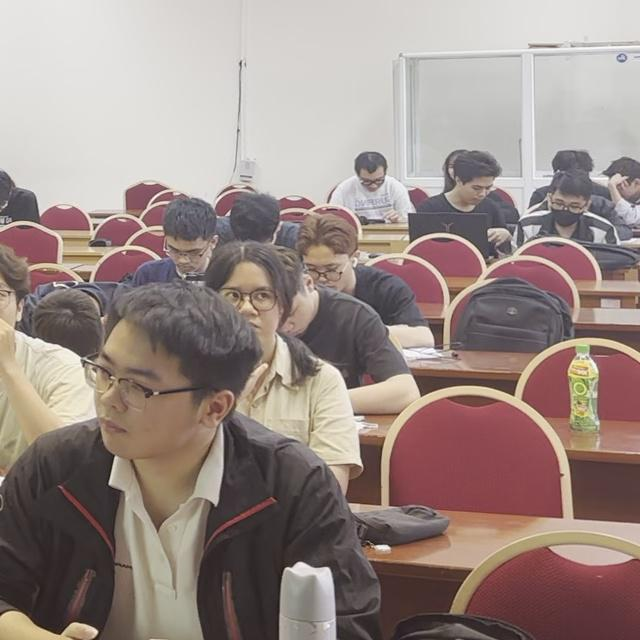Looking away: (219, 278, 277, 352), (163, 238, 213, 281), (300, 251, 348, 295), (544, 191, 591, 230), (453, 174, 498, 207), (357, 163, 387, 193), (612, 172, 639, 201)
Looking forward: (92, 341, 173, 459)
